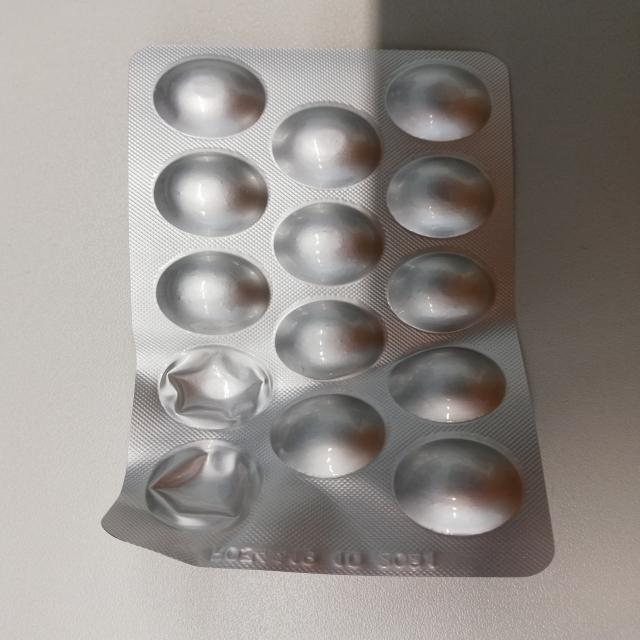Empty: (145, 438, 261, 535), (156, 341, 268, 433)
Pill: (391, 434, 526, 539), (152, 249, 273, 336), (153, 150, 271, 239), (270, 393, 387, 481), (272, 200, 387, 288), (388, 344, 512, 425), (151, 56, 270, 140), (272, 101, 383, 191), (387, 252, 504, 335), (274, 299, 387, 381), (384, 62, 494, 146), (386, 156, 496, 240)
